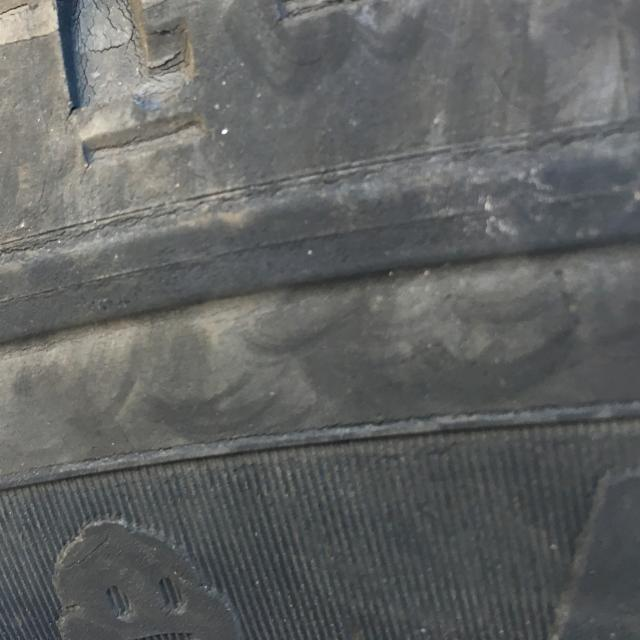Cracks: (57, 0, 201, 106)
Non-defective: (0, 191, 640, 640)
